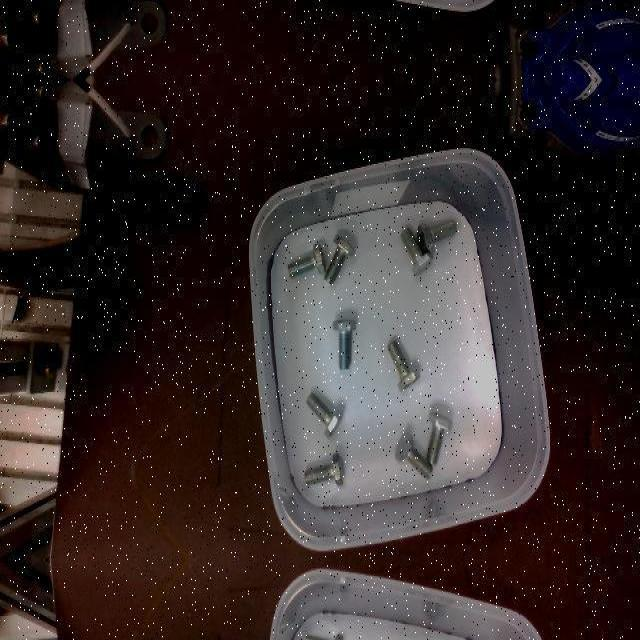screw: (395, 432, 433, 480), (387, 340, 420, 392), (306, 392, 343, 438), (400, 226, 434, 276), (323, 233, 355, 285), (426, 412, 453, 466), (287, 242, 325, 278), (416, 218, 456, 252), (304, 453, 344, 487), (332, 319, 356, 369), (304, 633, 344, 639)
